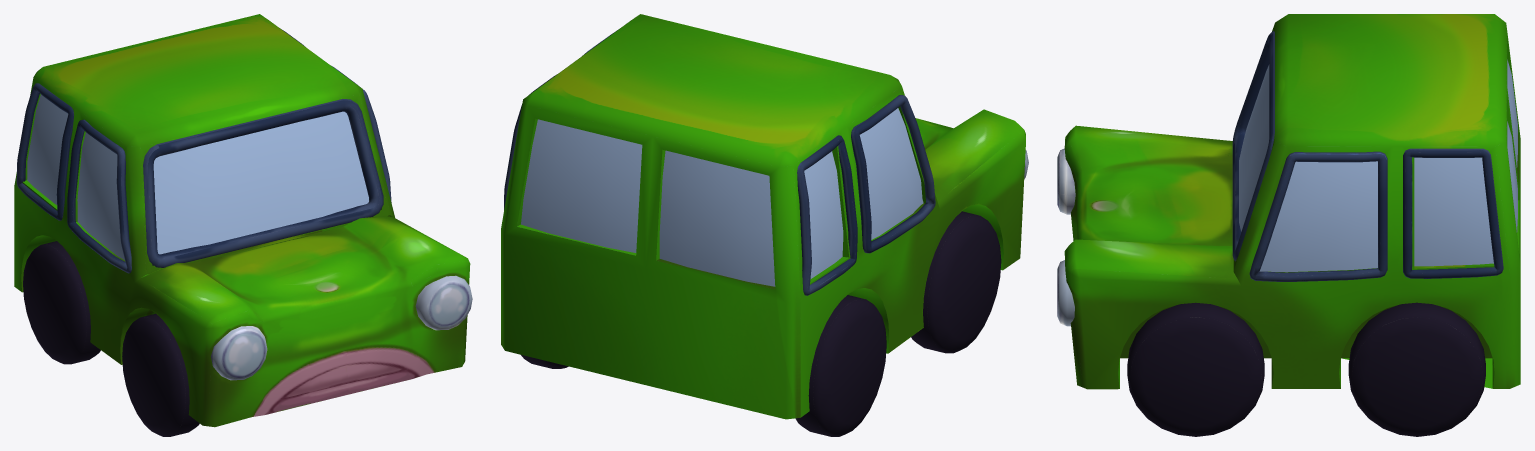
The model's file is greencar.fbx.
The picture shows the model from 3 angles, left to right: view 1: azimuth 30°, elevation 25°; view 2: azimuth 150°, elevation 25°; view 3: azimuth 270°, elevation 25°; orthographic projection. The views are drawn at different scales.
Parts seen in each view (by area): view 1: carmatchcarfinal_3; view 2: carmatchcarfinal_3; view 3: carmatchcarfinal_3.
Part boxes in pixels (x1,y1,x2,y2): carmatchcarfinal_3: [14, 14, 472, 436]; carmatchcarfinal_3: [501, 14, 1028, 436]; carmatchcarfinal_3: [1057, 14, 1520, 436].
Size of the model in its own units: 213 by 193 by 277.
